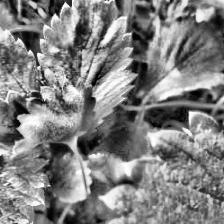Powdery Mildew Leaf: (0, 77, 97, 156), (0, 8, 41, 106)
